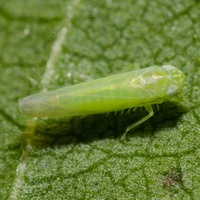insect: (19, 65, 184, 139)
